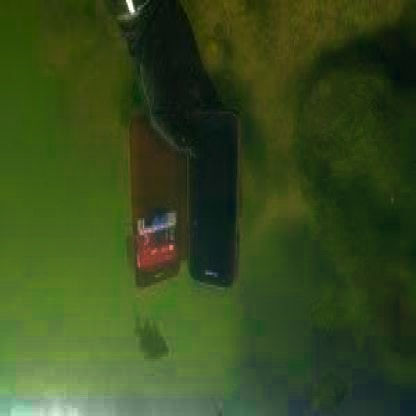cellphone: (190, 106, 243, 288)
